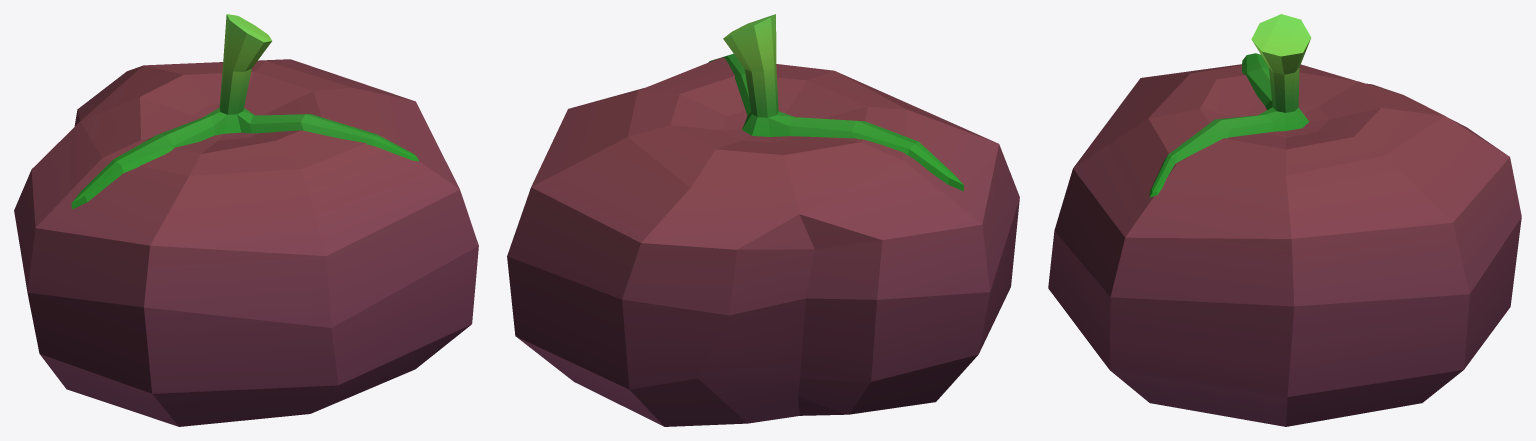
The model's file is SM_Tomato.fbx.
3 renders of one model, left to right at view 1: azimuth 30°, elevation 25°; view 2: azimuth 150°, elevation 25°; view 3: azimuth 270°, elevation 25°, orthographic. The views are drawn at different scales.
Parts seen in each view (by area): view 1: tomato; view 2: tomato; view 3: tomato.
Part boxes in pixels (box(x1,y1,x2,y2)): tomato: box(14, 14, 478, 426); tomato: box(507, 14, 1019, 426); tomato: box(1048, 14, 1521, 426).
Bounding box in the file's own units: 17.72 × 13.95 × 17.2.
